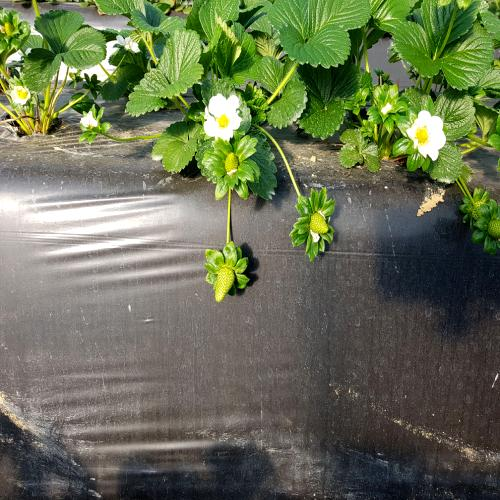unripe: (214, 260, 243, 312), (312, 211, 333, 240)
